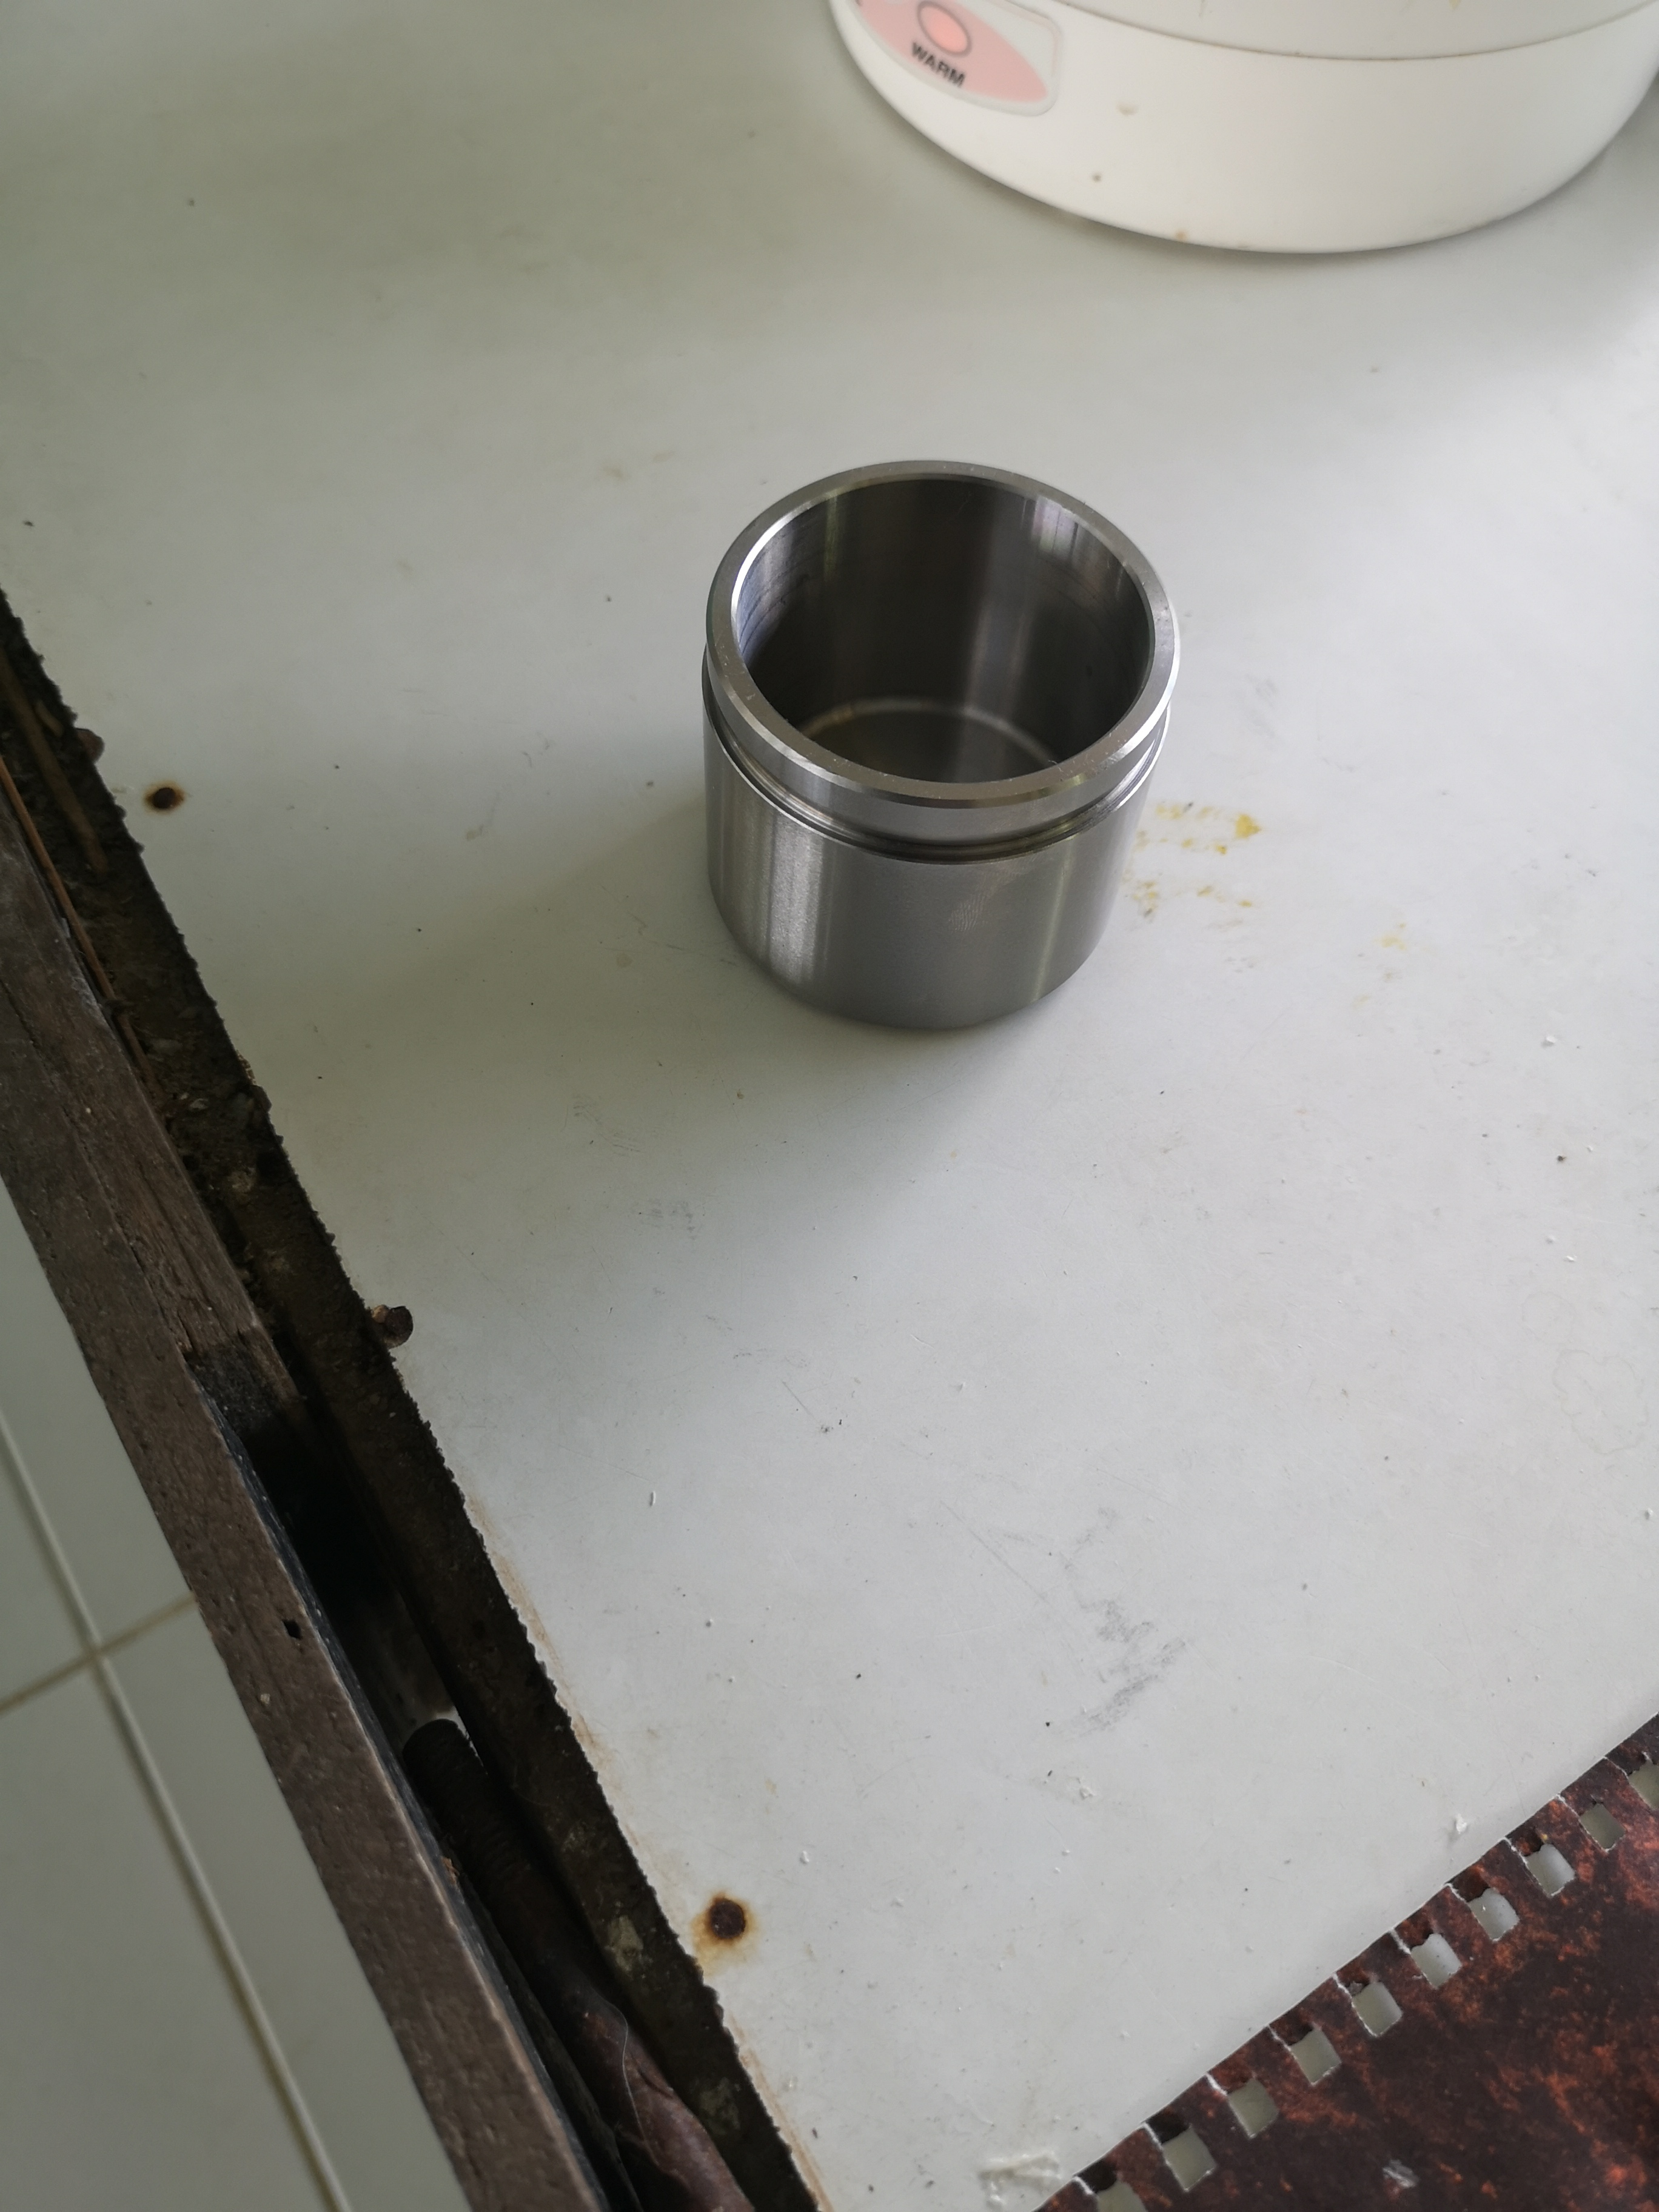ลูกสูบดิสเบรค: (645, 451, 1180, 1068)
